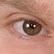eye: (22, 21, 41, 36)
